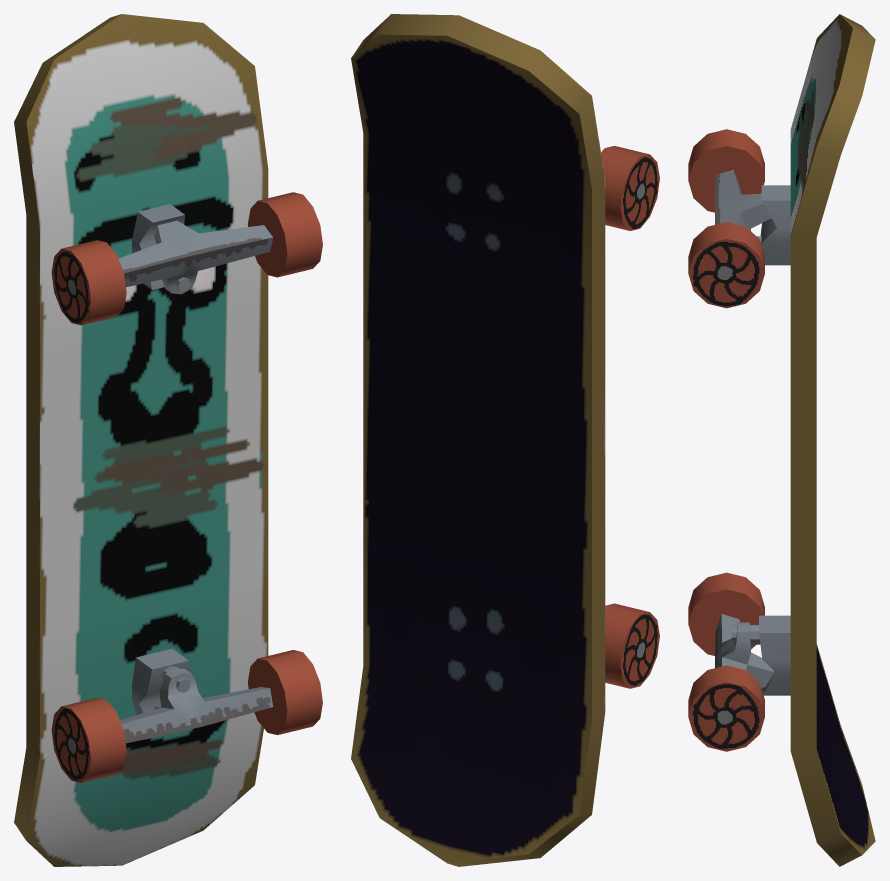
File: Skateboard.fbx
The picture shows the model from 3 angles, left to right: view 1: azimuth 30°, elevation 25°; view 2: azimuth 150°, elevation 25°; view 3: azimuth 270°, elevation 25°; orthographic projection. The views are drawn at different scales.
Parts seen in each view (by area): view 1: Deck, Wheels, Trucks; view 2: Deck, Wheels; view 3: Deck, Wheels, Trucks.
Part boxes in pixels (box(x1,y1,x2,y2)): Deck: box(14, 14, 268, 866); Wheels: box(51, 192, 322, 782); Trucks: box(118, 204, 273, 743); Deck: box(351, 14, 605, 866); Wheels: box(601, 146, 659, 688); Deck: box(790, 14, 875, 866); Wheels: box(688, 129, 764, 751); Trucks: box(715, 169, 790, 695).
Size of the model in its own units: 1.76 by 6.19 by 1.27.
3 materials, 3 textured.
